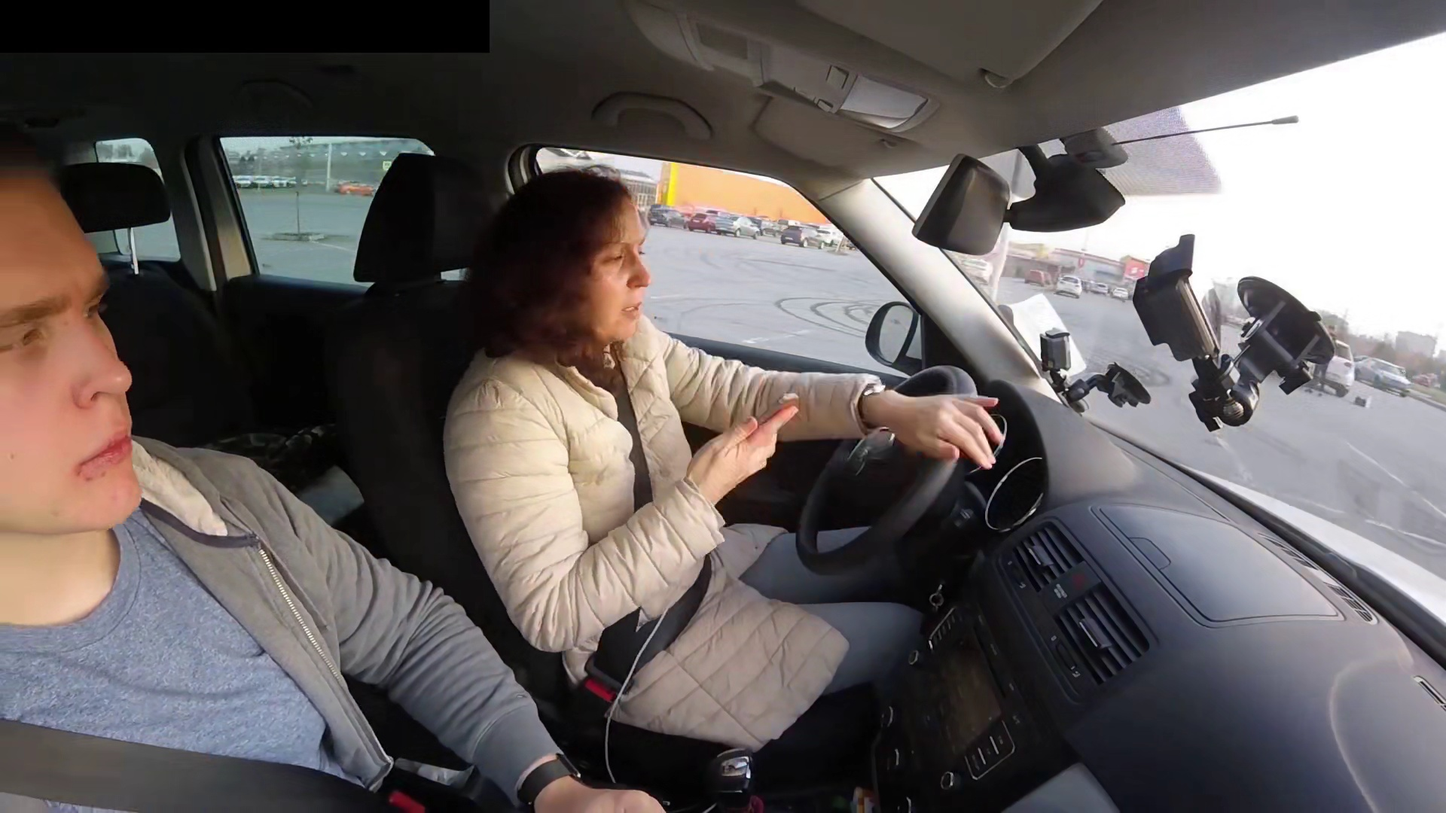bus: (402, 109, 1091, 792), (0, 112, 147, 555)
truck: (410, 112, 1088, 786)
